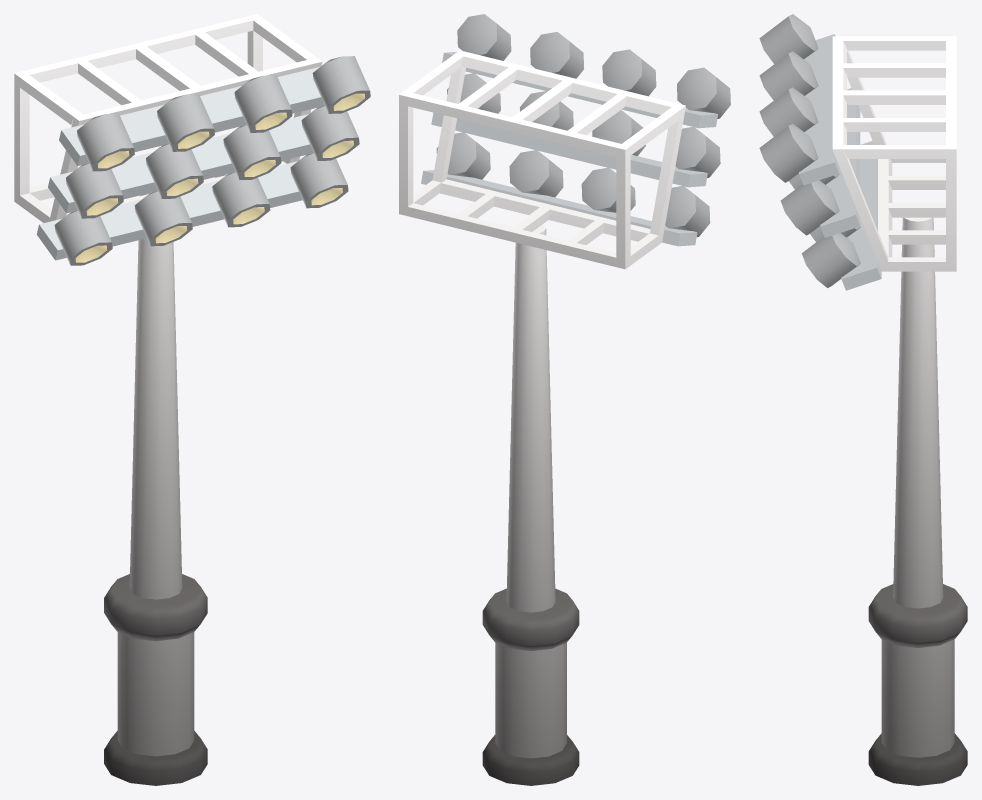
File: Stadium_Lamp_01.glb
3 renders of one model, left to right at view 1: azimuth 30°, elevation 25°; view 2: azimuth 150°, elevation 25°; view 3: azimuth 270°, elevation 25°, orthographic. The views are drawn at different scales.
Visible parts, largest first — view 1: Stadium_Lamp_01; view 2: Stadium_Lamp_01; view 3: Stadium_Lamp_01.
Boxes of the visible parts, box(x1,y1,x2,y2) form: Stadium_Lamp_01: box(14, 14, 370, 785); Stadium_Lamp_01: box(399, 14, 730, 785); Stadium_Lamp_01: box(759, 14, 967, 785).
Bounding box in the file's own units: 7.22 × 18.03 × 4.9.
Materials: 2 (2 with a texture image).
